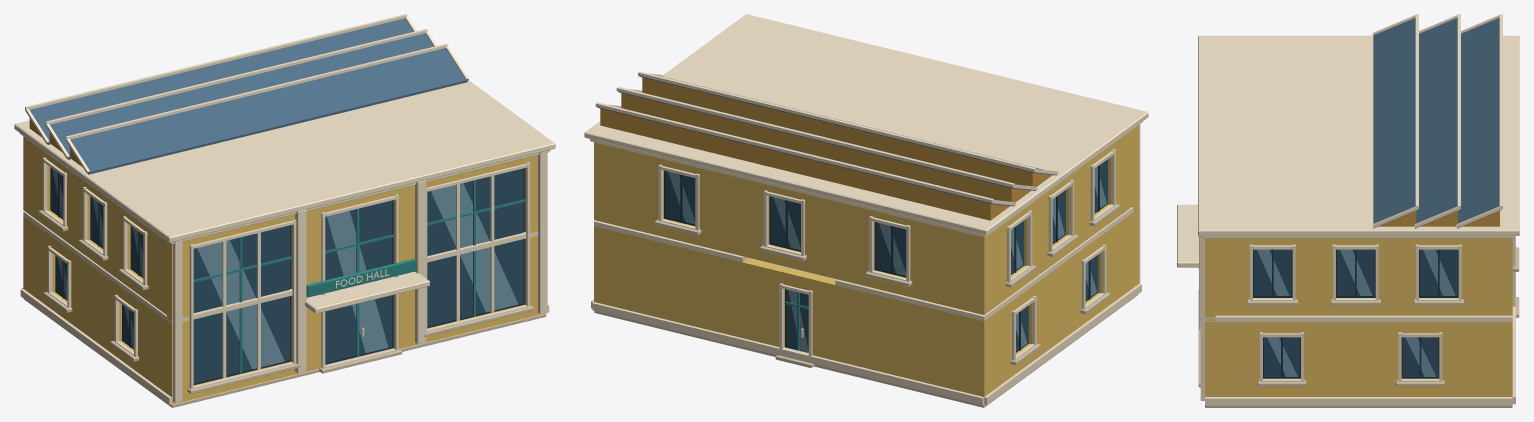
The model's file is city_food_hall.glb.
3 views of the same model, side by side, from view 1: azimuth 30°, elevation 25°; view 2: azimuth 150°, elevation 25°; view 3: azimuth 270°, elevation 25° (orthographic). The views are drawn at different scales.
Visible parts, largest first — view 1: CityFoodHall_StaticMesh; view 2: CityFoodHall_StaticMesh; view 3: CityFoodHall_StaticMesh.
Boxes of the visible parts, x1,y1,x2,y2 form: CityFoodHall_StaticMesh: (14, 14, 555, 407); CityFoodHall_StaticMesh: (584, 14, 1148, 407); CityFoodHall_StaticMesh: (1177, 14, 1519, 407).
Bounding box in the file's own units: 16.52 × 8.04 × 12.27.
